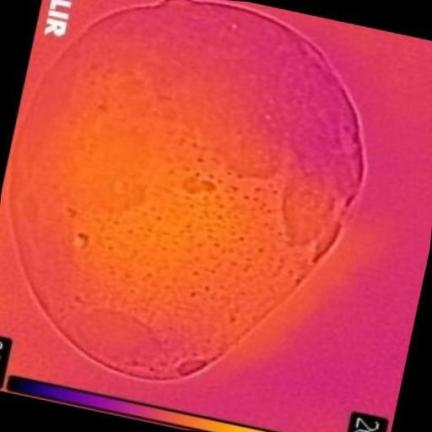mango: (9, 0, 364, 380)
